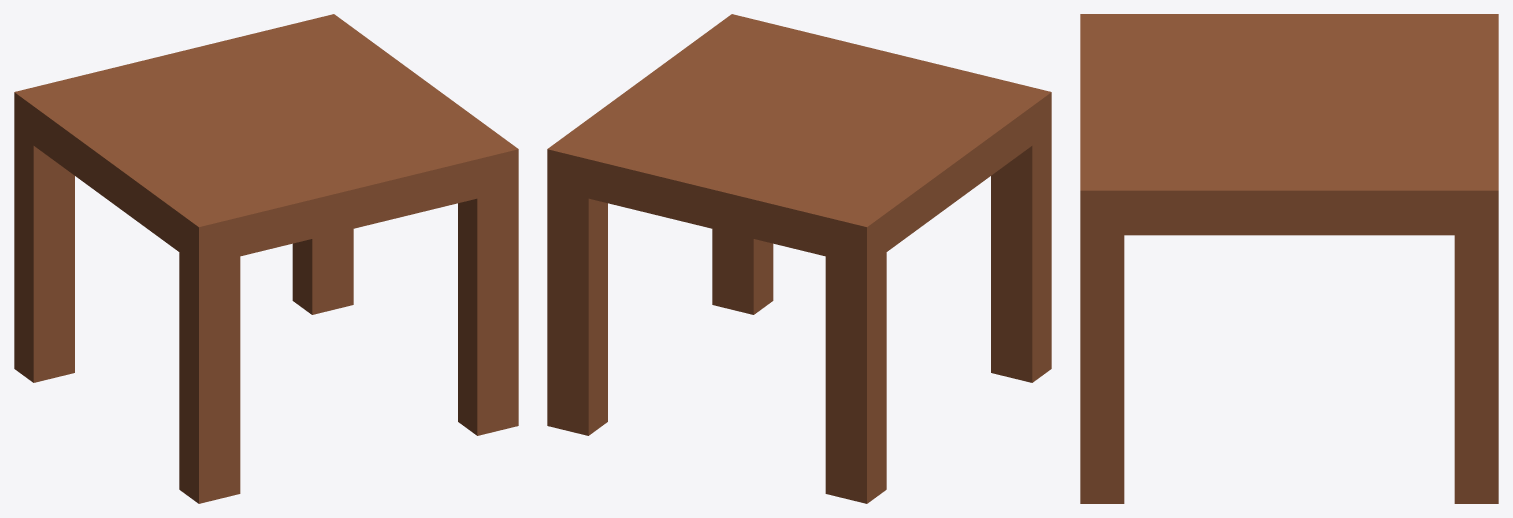
The model's file is Tavolo_PIECES.fbx.
3 renders of one model, left to right at view 1: azimuth 30°, elevation 25°; view 2: azimuth 150°, elevation 25°; view 3: azimuth 270°, elevation 25°, orthographic. The views are drawn at different scales.
Visible parts, largest first — view 1: Piece 1., Piece 8., Piece 9., Piece 7., Piece 4., Piece 3., Piece 5., Piece 10., Piece 6.; view 2: Piece 1., Piece 7., Piece 10., Piece 8., Piece 6., Piece 3., Piece 5., Piece 9., Piece 4.; view 3: Piece 1., Piece 5., Piece 9., Piece 10., Piece 3., Piece 4., Piece 6., Piece 8., Piece 7..
Part boxes in pixels (left/top/right/bottom): Piece 1.: left=75, top=38, right=457, bottom=202; Piece 8.: left=179, top=203, right=240, bottom=503; Piece 9.: left=458, top=135, right=518, bottom=435; Piece 7.: left=14, top=82, right=74, bottom=382; Piece 4.: left=221, top=145, right=477, bottom=256; Piece 3.: left=33, top=96, right=220, bottom=251; Piece 5.: left=312, top=28, right=498, bottom=144; Piece 10.: left=292, top=14, right=353, bottom=314; Piece 6.: left=56, top=24, right=311, bottom=95; Piece 1.: left=608, top=38, right=990, bottom=202; Piece 7.: left=825, top=203, right=886, bottom=503; Piece 10.: left=547, top=135, right=607, bottom=435; Piece 8.: left=991, top=82, right=1051, bottom=382; Piece 6.: left=588, top=145, right=844, bottom=256; Piece 3.: left=845, top=96, right=1032, bottom=251; Piece 5.: left=567, top=28, right=753, bottom=144; Piece 9.: left=712, top=14, right=773, bottom=314; Piece 4.: left=754, top=24, right=1009, bottom=95; Piece 1.: left=1124, top=37, right=1454, bottom=167; Piece 5.: left=1124, top=168, right=1454, bottom=235; Piece 9.: left=1080, top=168, right=1124, bottom=503; Piece 10.: left=1454, top=168, right=1498, bottom=503; Piece 3.: left=1124, top=14, right=1454, bottom=36; Piece 4.: left=1080, top=37, right=1124, bottom=167; Piece 6.: left=1454, top=37, right=1498, bottom=167; Piece 8.: left=1080, top=14, right=1124, bottom=36; Piece 7.: left=1454, top=14, right=1498, bottom=36.
Bounding box in the file's own units: 82.48 × 68.18 × 82.48.
